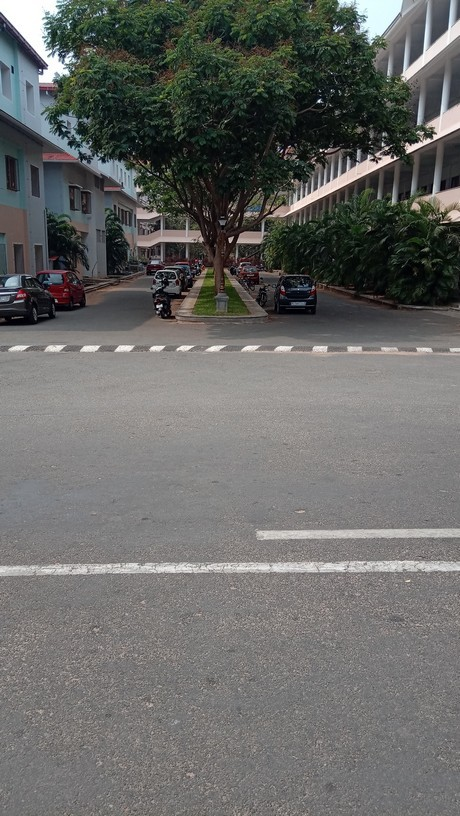bump: (1, 341, 459, 358)
